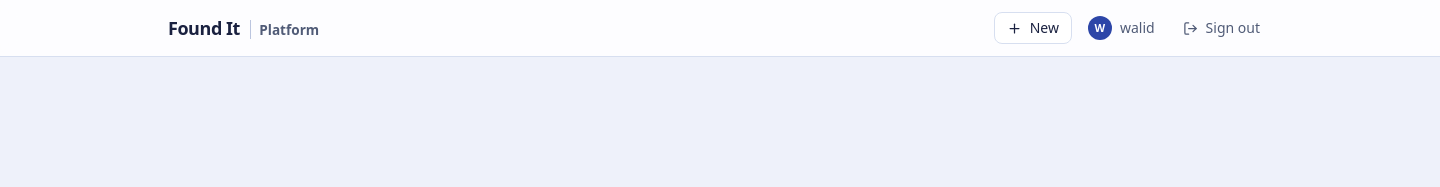
Test case: AppHeader › opens the New menu and closes it on outside click
expect the link with aria-label "View walid's profile" is shown: met, box top-left (1088, 16), bottom-right (1155, 40)
What coordinates should you click on to do the following:
click the button "New"
I would click on:
 (1033, 28)
Its box is top-left (994, 12), bottom-right (1072, 44).
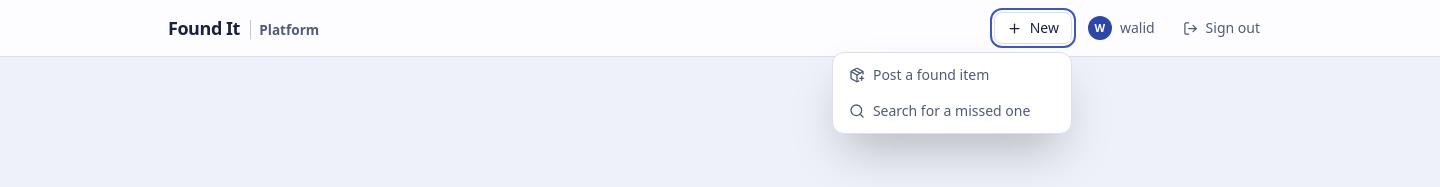
What coordinates should you click on to do the following:
click the element that starts with "Found It"
I would click on:
 (720, 28)
Its box is top-left (0, 0), bottom-right (1439, 57).
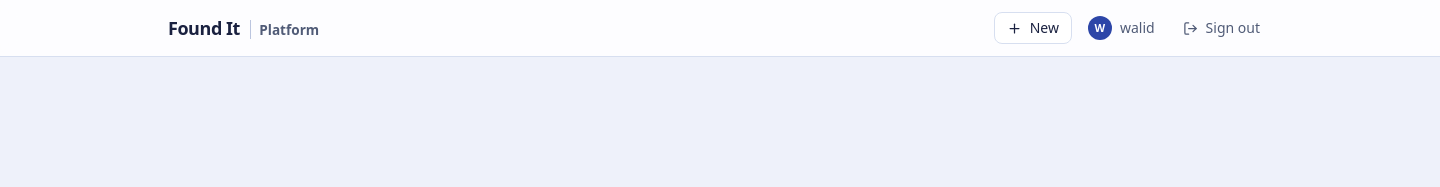
expect the link "Post a found item" is gone: met
